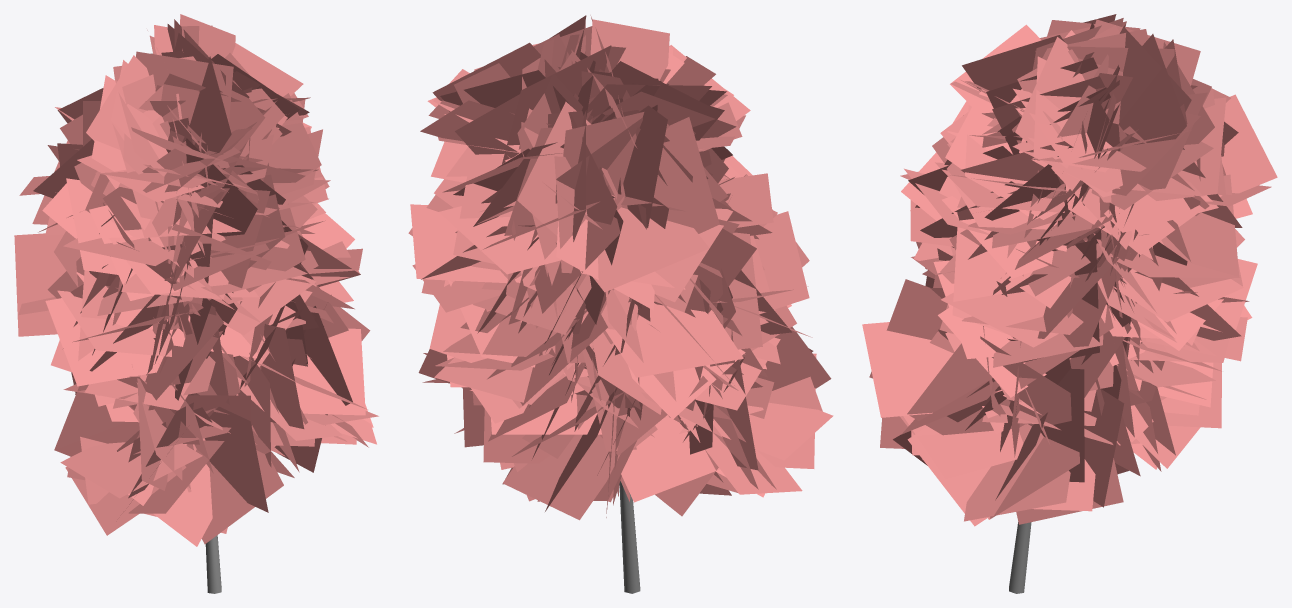
The model's file is SM_tree8.fbx.
The picture shows the model from 3 angles, left to right: view 1: azimuth 30°, elevation 25°; view 2: azimuth 150°, elevation 25°; view 3: azimuth 270°, elevation 25°; orthographic projection. The views are drawn at different scales.
Parts seen in each view (by area): view 1: SM_tree8; view 2: SM_tree8; view 3: SM_tree8.
Boxes of the visible parts, box(x1,y1,x2,y2) form: SM_tree8: box(14, 14, 378, 593); SM_tree8: box(408, 15, 833, 593); SM_tree8: box(862, 14, 1277, 593).
Bounding box in the file's own units: 631 × 1008 × 662.
